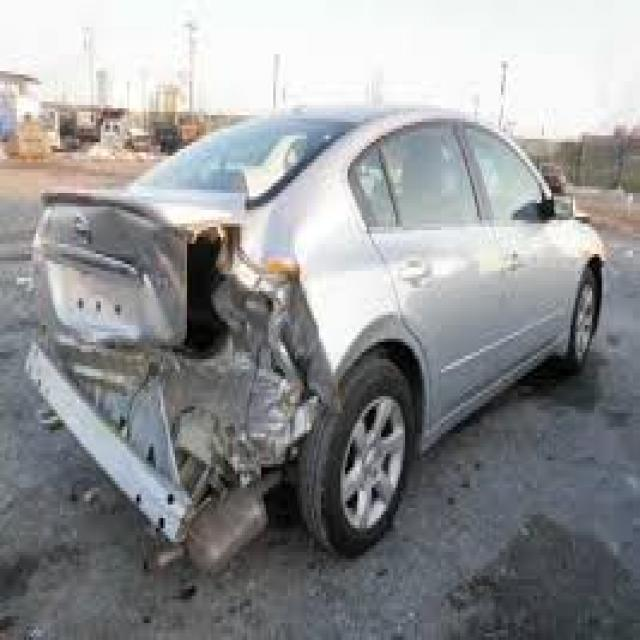severe: (34, 204, 314, 563)
